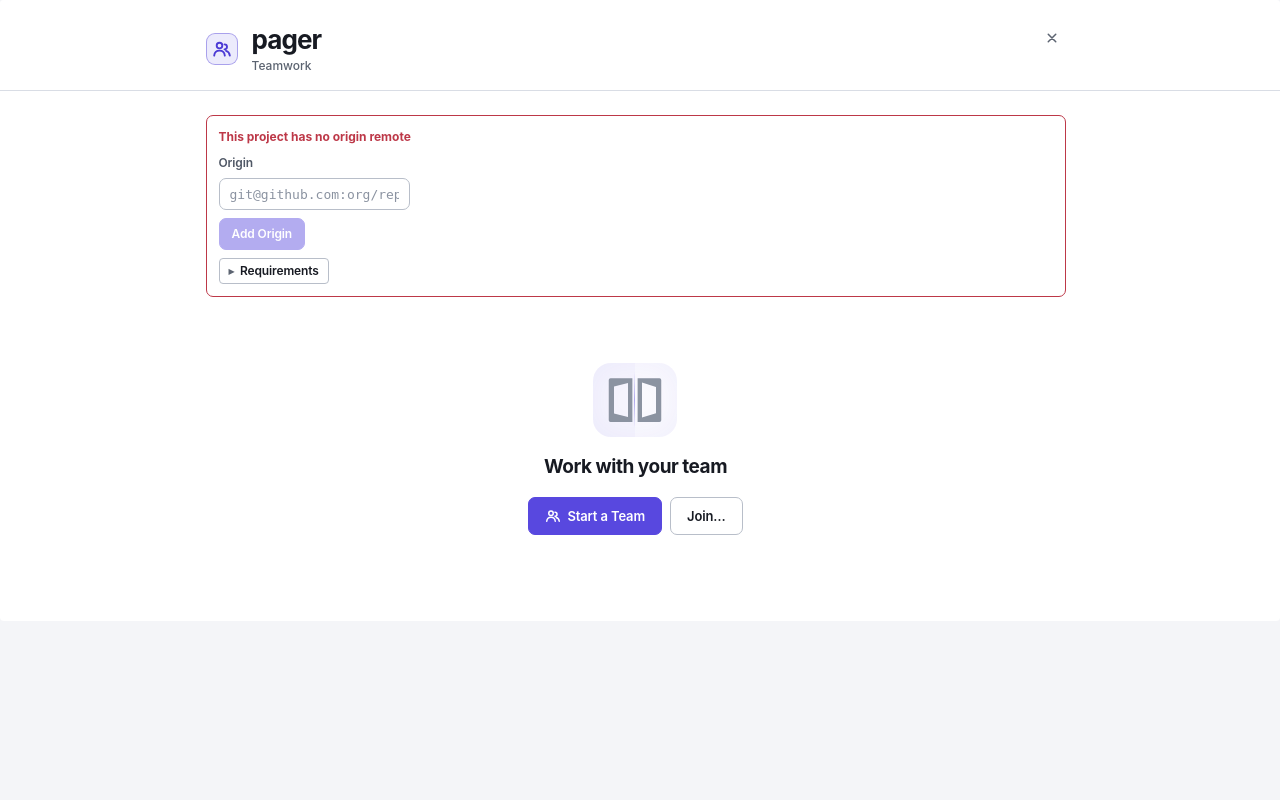
Test: the origin remote, as a field rather than a command to go and run › refuses a path no two machines could agree on, before git is ever asked
Click the button "Start a Team" at (595, 516), box [528,497,662,535]
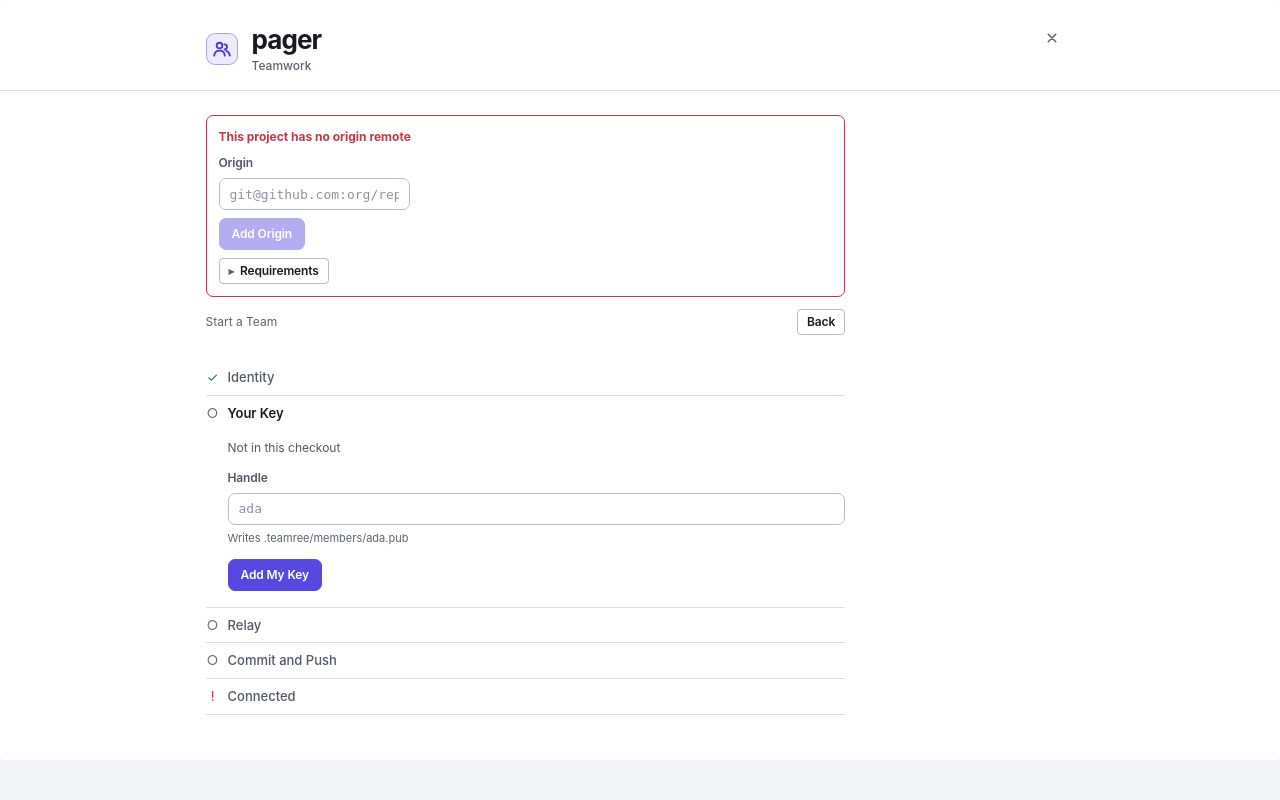
Type "~/code/pager" into the field labelled "Origin" at (314, 194), box [218,178,410,210]
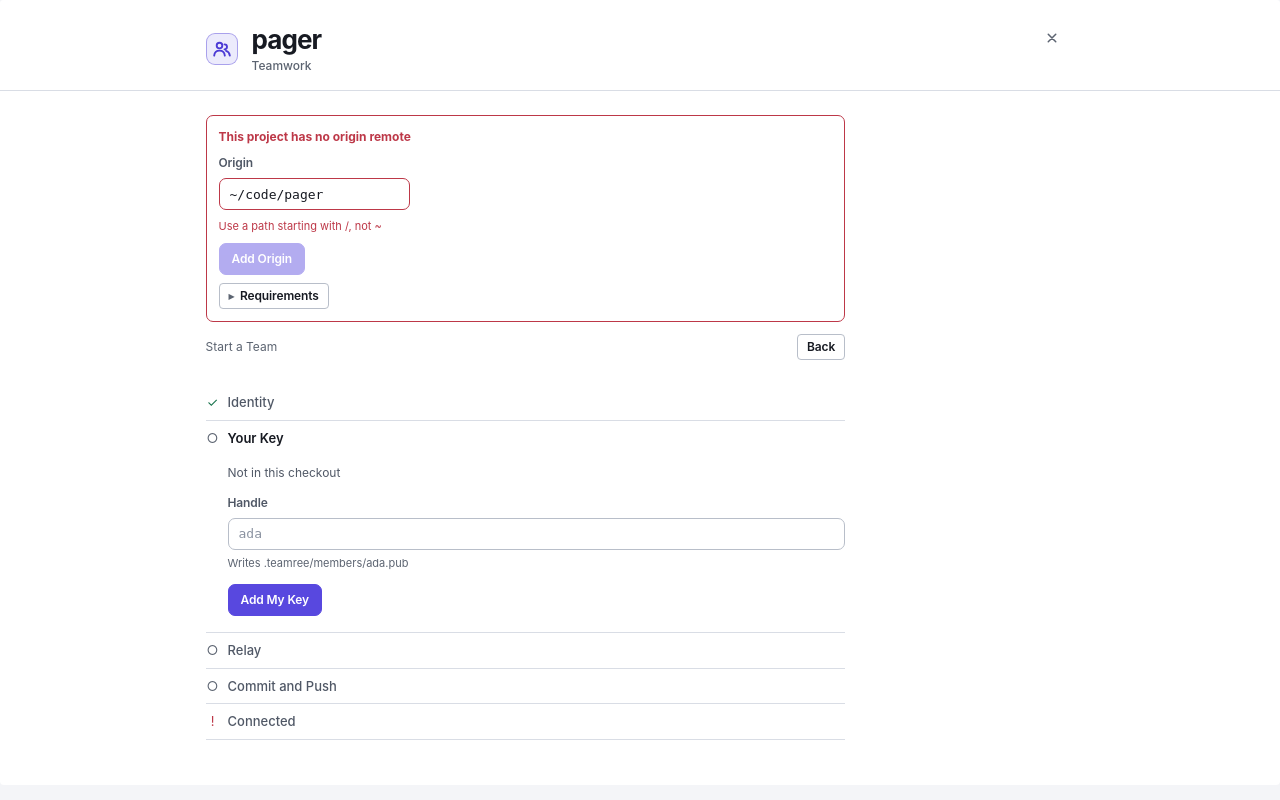
Expected: the button "Add Origin" is disabled, [218,243,305,275]
Now the text "Use a path starting with /, not ~" is shown, box [218,218,382,235]
